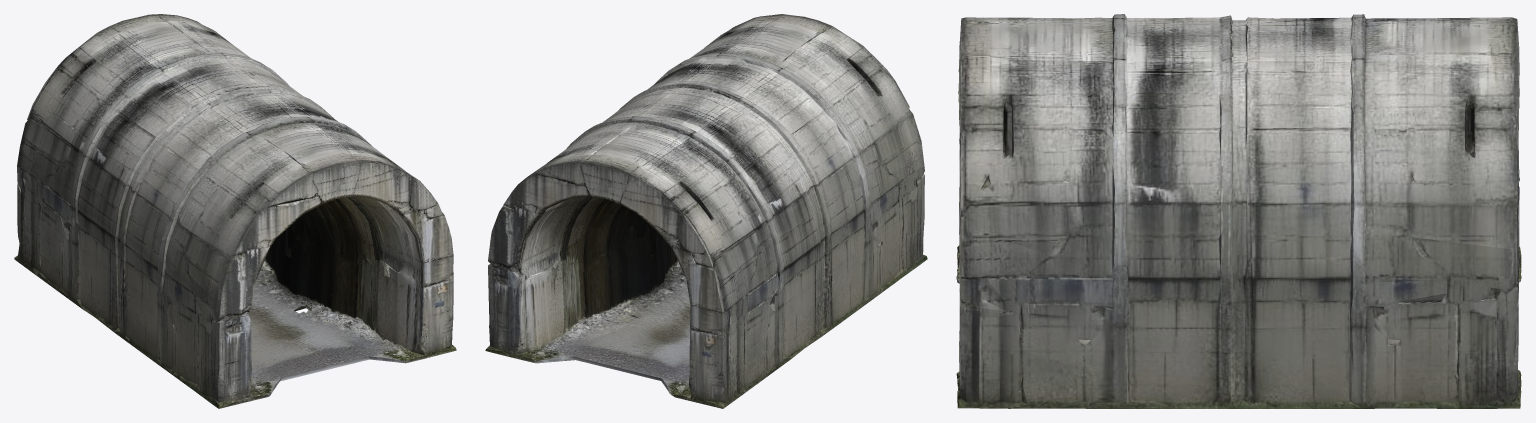
Rendered from tunnel_mouth.glb.
3 views of the same model, side by side, from view 1: azimuth 30°, elevation 25°; view 2: azimuth 150°, elevation 25°; view 3: azimuth 270°, elevation 25° (orthographic). The views are drawn at different scales.
Parts seen in each view (by area): view 1: tunnel_mouth; view 2: tunnel_mouth; view 3: tunnel_mouth.
Part boxes in pixels (bbox=[...]): tunnel_mouth: bbox=[14, 14, 456, 408]; tunnel_mouth: bbox=[485, 14, 927, 408]; tunnel_mouth: bbox=[956, 14, 1521, 408].
Size of the model in its own units: 1.27 by 1.1 by 1.9.
1 material, 1 textured.
